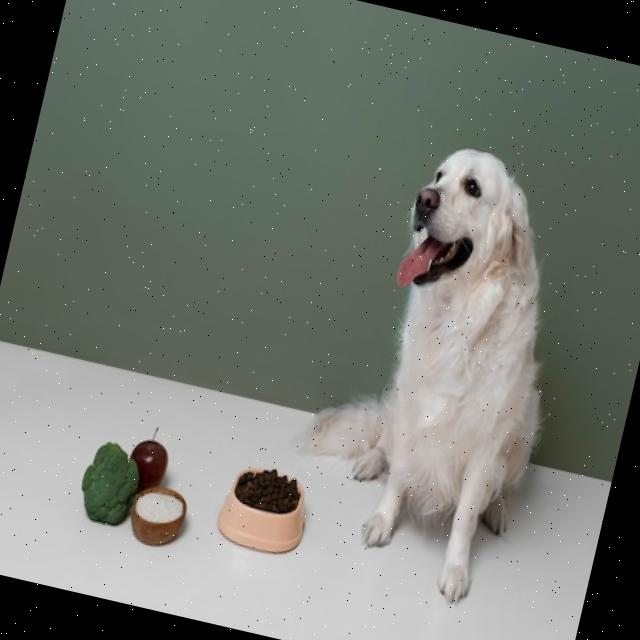Dog: (269, 126, 596, 615)
